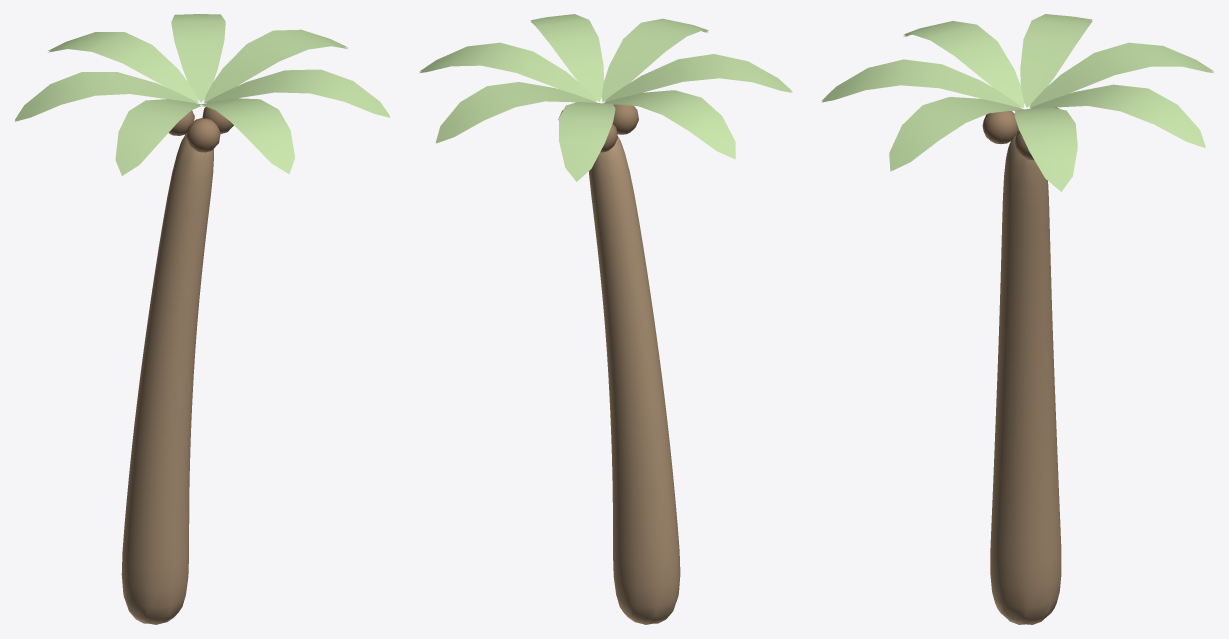
Rendered from Palm.fbx.
The picture shows the model from 3 angles, left to right: view 1: azimuth 30°, elevation 25°; view 2: azimuth 150°, elevation 25°; view 3: azimuth 270°, elevation 25°; orthographic projection. The views are drawn at different scales.
Parts seen in each view (by area): view 1: Palm_Model; view 2: Palm_Model; view 3: Palm_Model.
Boxes of the visible parts, x1=… form: Palm_Model: x1=15, y1=14, x2=390, y2=624; Palm_Model: x1=419, y1=14, x2=792, y2=624; Palm_Model: x1=821, y1=14, x2=1214, y2=624.
Bounding box in the file's own units: 2.73 × 4.34 × 2.69.
